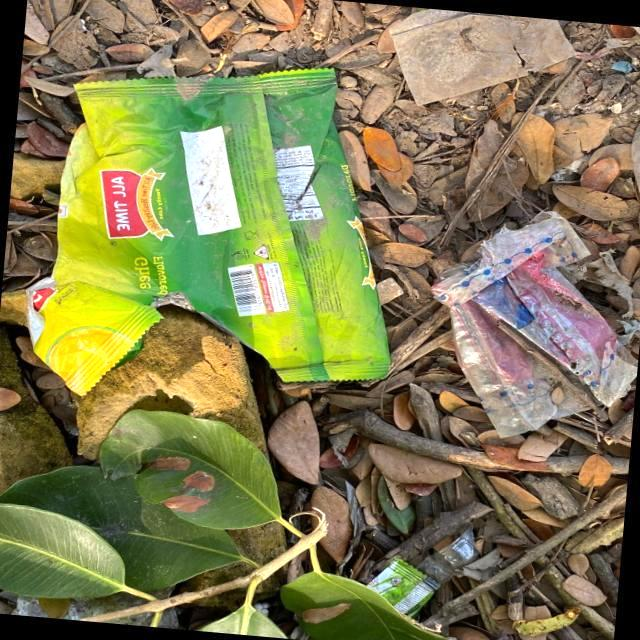packet: (55, 60, 390, 398), (407, 210, 640, 452)
